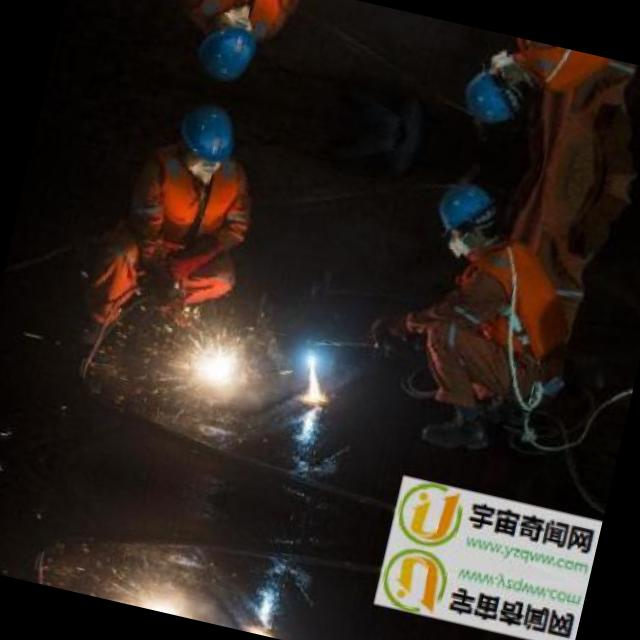helmet: (163, 91, 246, 183), (184, 0, 267, 90), (459, 46, 534, 133), (430, 172, 505, 258)
